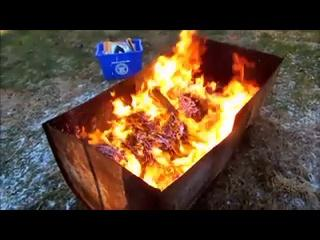fire: (98, 31, 264, 194)
